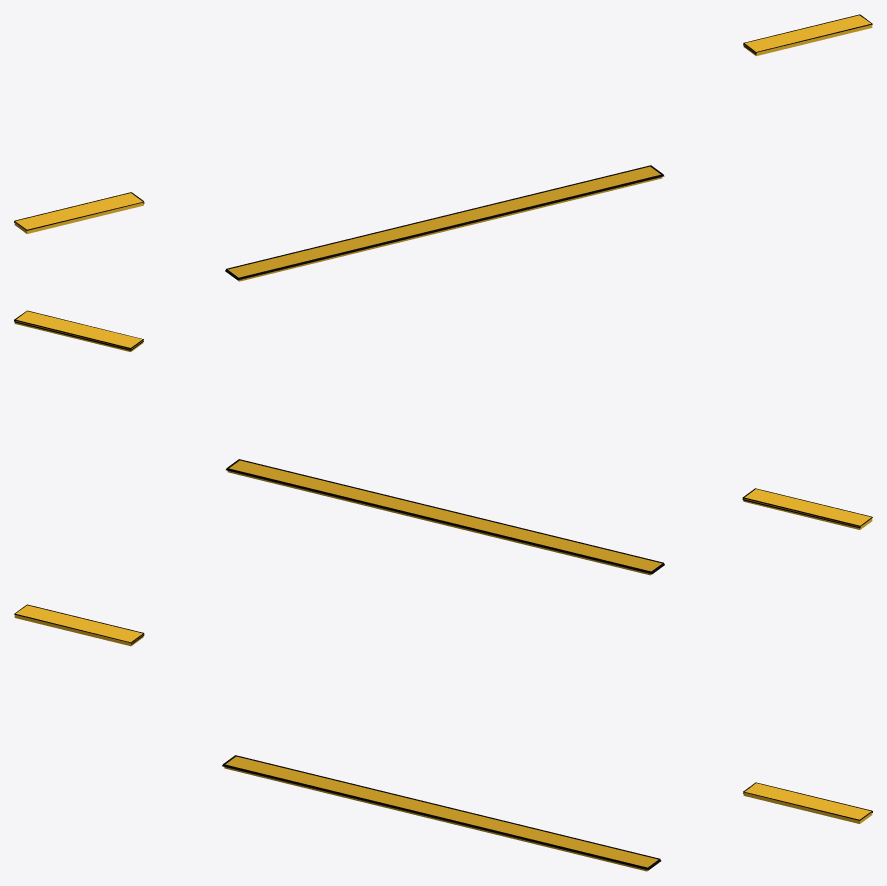
File: Platform.fbx
The picture shows the model from 3 angles, top to bottom: view 1: azimuth 30°, elevation 25°; view 2: azimuth 150°, elevation 25°; view 3: azimuth 330°, elevation 25°; orthographic projection.
Parts seen in each view (by area): view 1: LineArt.009, Plane.002, Plane.003; view 2: LineArt.009, Plane.002, Plane.003; view 3: LineArt.009, Plane.002, Plane.003.
Boxes of the visible parts, bbox=[...] form: LineArt.009: bbox=[225, 165, 664, 281]; Plane.002: bbox=[14, 192, 144, 233]; Plane.003: bbox=[743, 14, 872, 55]; LineArt.009: bbox=[226, 459, 664, 575]; Plane.002: bbox=[742, 488, 872, 529]; Plane.003: bbox=[14, 310, 143, 351]; LineArt.009: bbox=[222, 755, 661, 871]; Plane.002: bbox=[14, 604, 144, 646]; Plane.003: bbox=[743, 782, 872, 823].
Size of the model in its own units: 1352 by 156 by 39.4.
